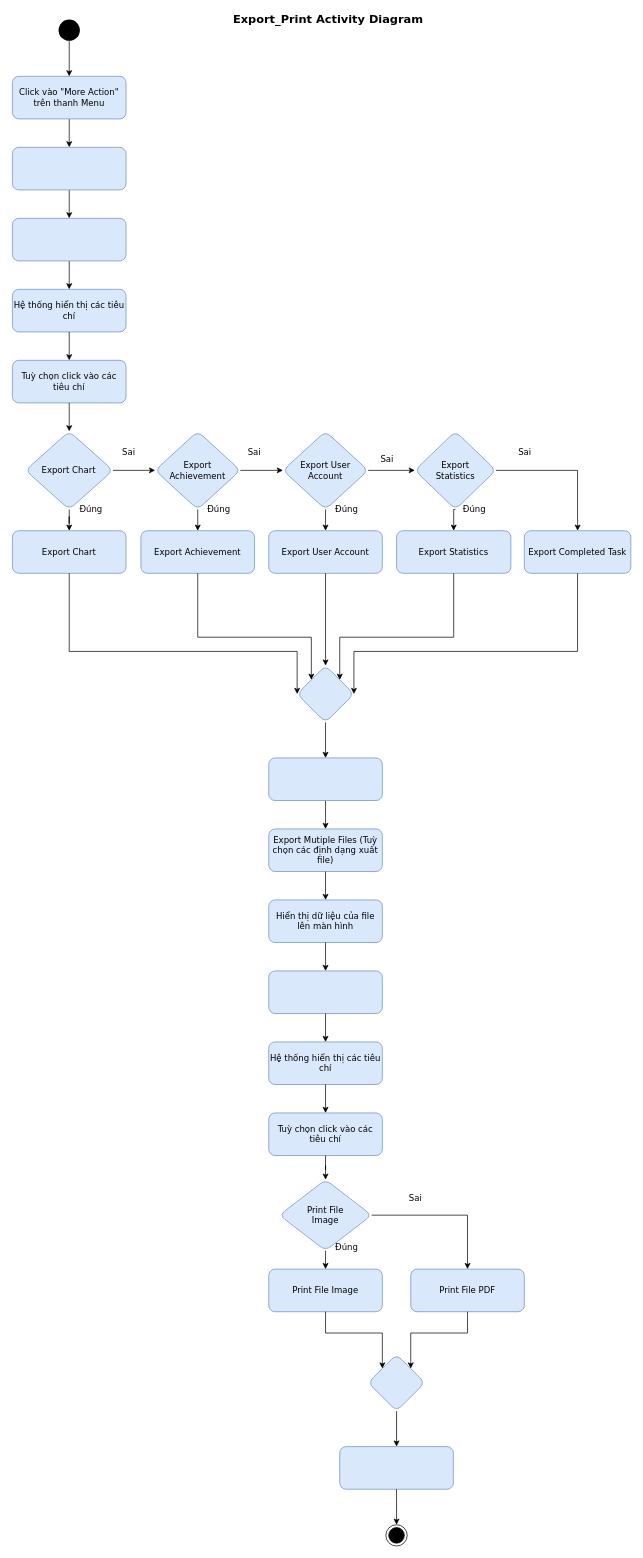
The diagram is 643 pixels wide and 1558 high, and some of its shapes have lost their labels. Here are the shapes that lost their labels. From the top down, the centre of each, then its label:
(69,168): Hệ thống sẽ hiển thị sidebar
(69,239): Click vào "Export"
(325,779): Hiển thị cửa sổ Print
(325,992): Click vào "Print"
(396,1467): In file và tải về thiết bị cho người dùng
